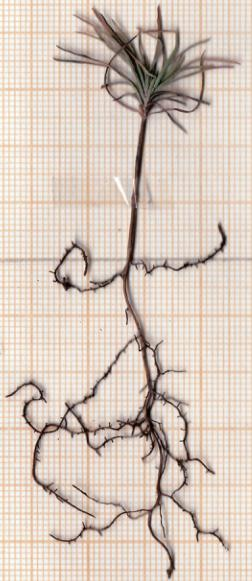flower: (47, 0, 241, 128)
root: (2, 219, 244, 581)
stem: (121, 122, 154, 257)
